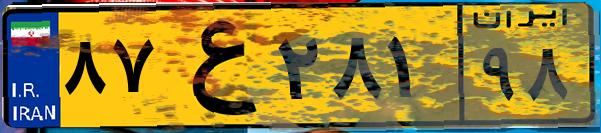1: (385, 28, 445, 110)
2: (270, 28, 330, 110)
7: (110, 28, 158, 98)
8: (330, 28, 385, 110), (57, 26, 110, 100), (525, 38, 570, 115)
9: (475, 38, 525, 113)
ع: (158, 12, 270, 120)
